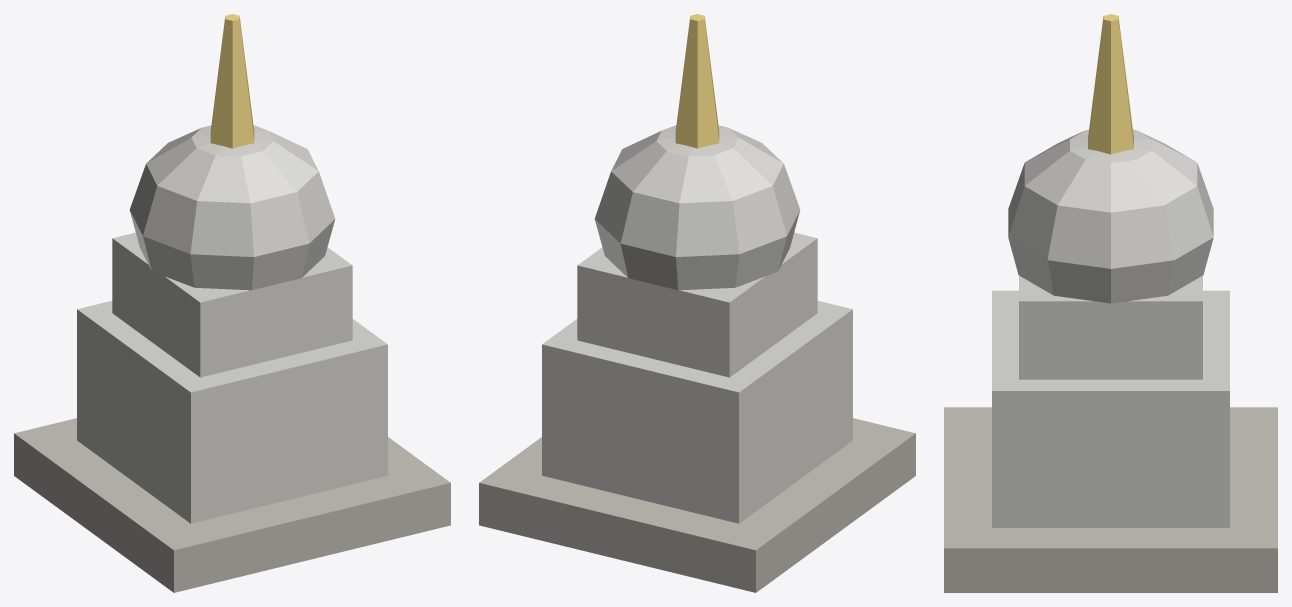
The picture shows the model from 3 angles, left to right: view 1: azimuth 30°, elevation 25°; view 2: azimuth 150°, elevation 25°; view 3: azimuth 270°, elevation 25°; orthographic projection. The views are drawn at different scales.
Visible parts, largest first — view 1: WB_stupa; view 2: WB_stupa; view 3: WB_stupa.
Boxes of the visible parts, x1=… form: WB_stupa: x1=14, y1=14, x2=450, y2=592; WB_stupa: x1=479, y1=14, x2=915, y2=592; WB_stupa: x1=944, y1=14, x2=1277, y2=592.
Size of the model in its own units: 3.4 by 5.67 by 3.4.
